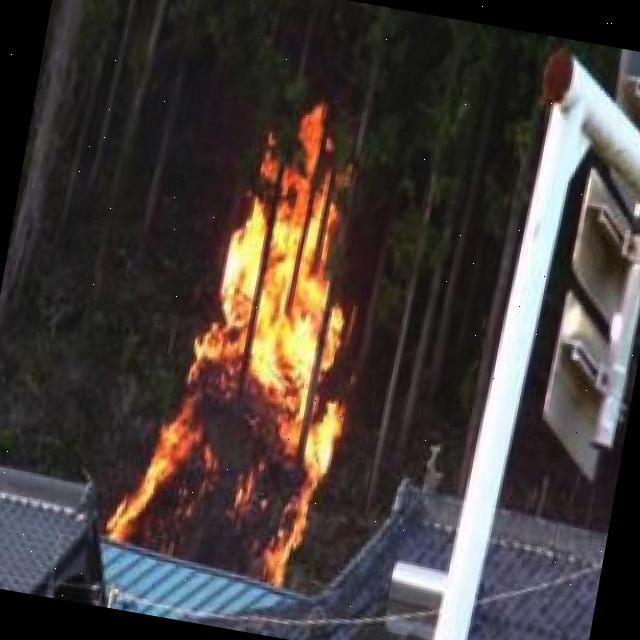fire: (115, 87, 389, 596)
